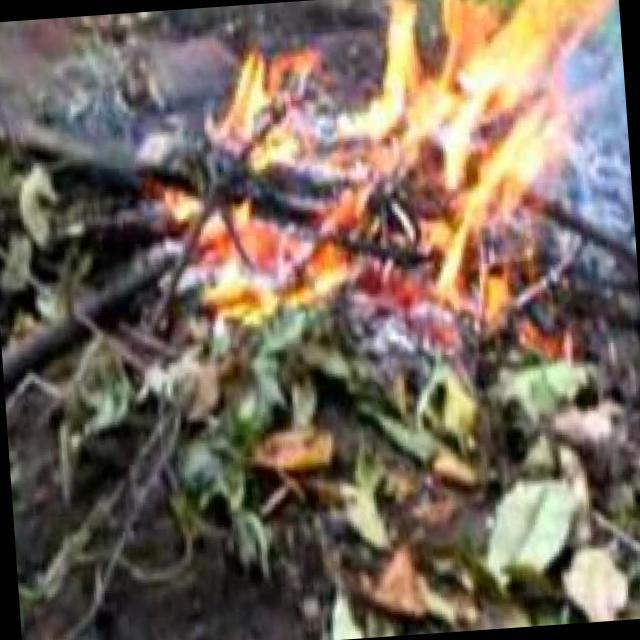Fire: (186, 1, 605, 325)
